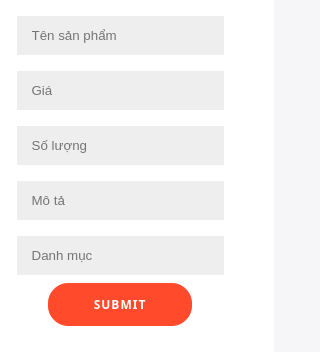
Test case: ProductForm Component - Validation › TC4: Hiển thị lỗi khi giá <= 0
This screenshot has width=320, height=352.
Type "Sản phẩm A" into the field with placeholder "Tên sản phẩm" at [120, 36], box [16,16,224,55]
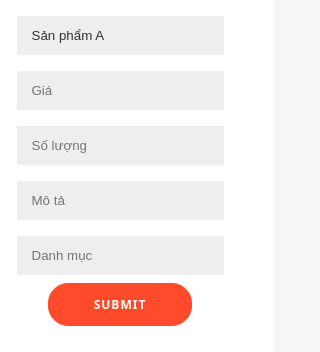
Type "0" into the field with placeholder "Giá" at [120, 90], box [16,71,224,110]
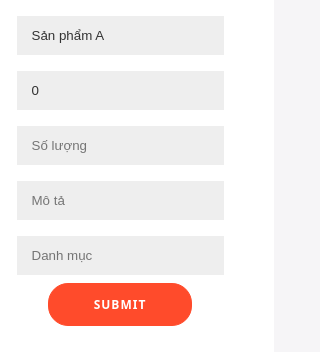
Type "5" into the field with placeholder "Số lượng" at [120, 146], box [16,126,224,165]
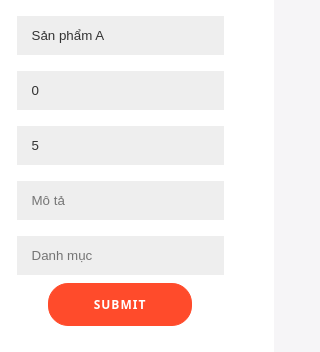
Type "Mô tả hợp lệ" into the field with placeholder "Mô tả" at [120, 200], box [16,181,224,220]
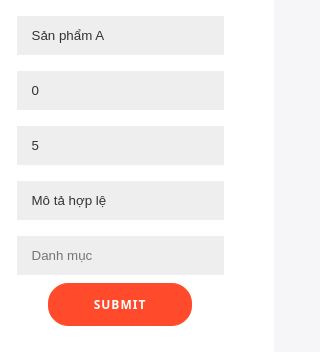
Type "Drink" into the field with placeholder "Danh mục" at [120, 256], box [16,236,224,275]
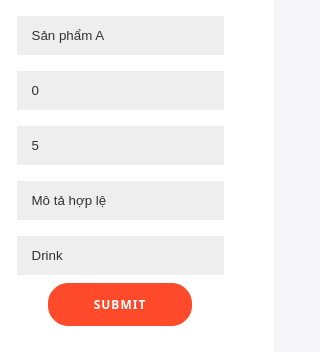
Click the button "Submit" at [120, 304], box [48,283,192,326]
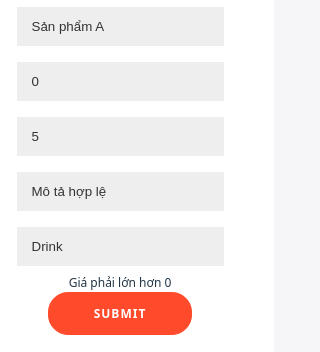
Result: the text "Giá phải lớn hơn 0" is shown at [69,274,171,292]
